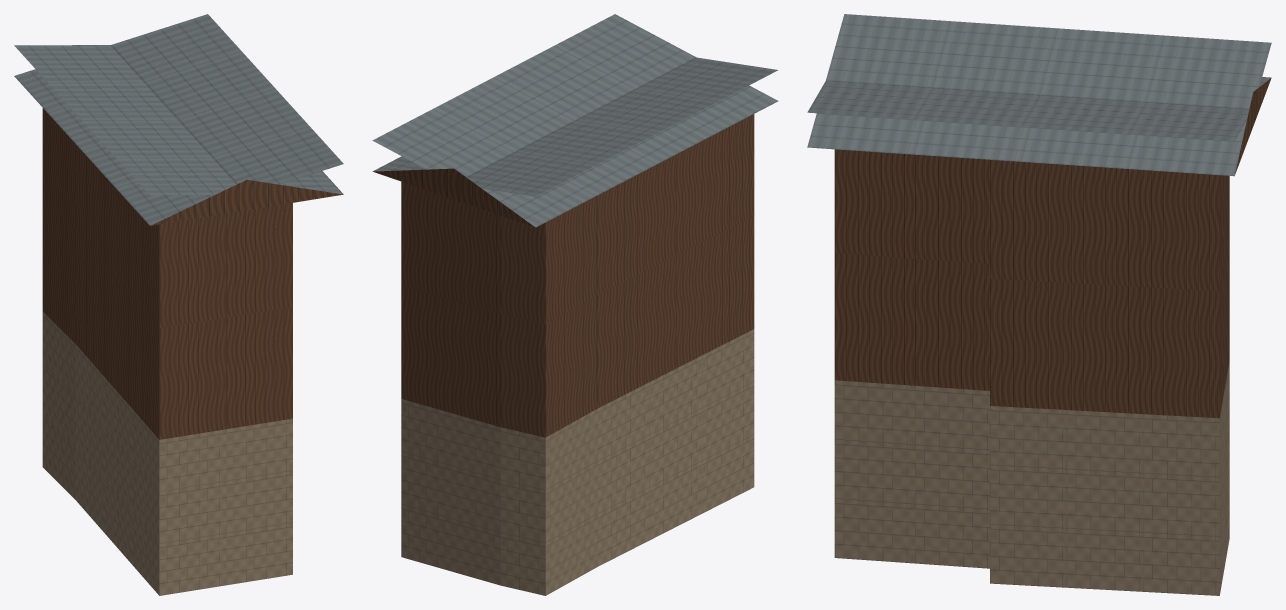
Rendered from bld_c13_27_361.gltf.
3 views of the same model, side by side, from view 1: azimuth 30°, elevation 25°; view 2: azimuth 150°, elevation 25°; view 3: azimuth 270°, elevation 25° (orthographic). The views are drawn at different scales.
Parts seen in each view (by area): view 1: bld_c13_27_361; view 2: bld_c13_27_361; view 3: bld_c13_27_361.
Boxes of the visible parts, box(x1,y1,x2,y2) form: bld_c13_27_361: box(14, 14, 343, 595); bld_c13_27_361: box(372, 14, 778, 595); bld_c13_27_361: box(807, 14, 1271, 595).
Size of the model in its own units: 7.84 by 13.4 by 12.08.
4 materials, 4 textured.
